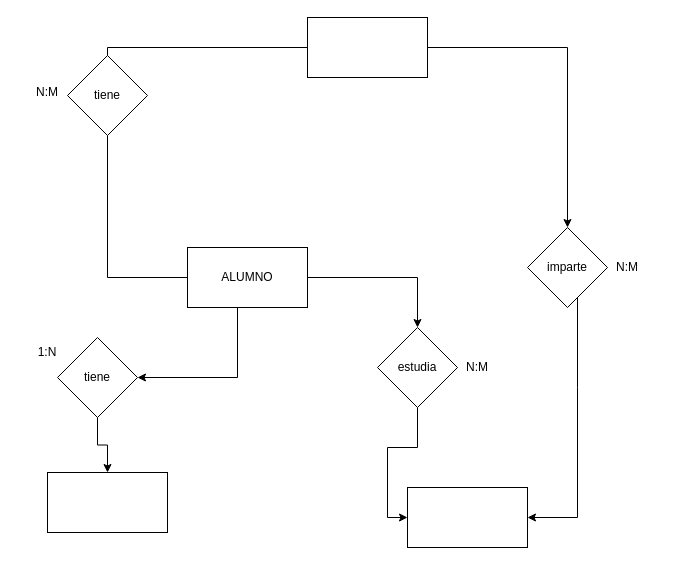
Some shapes in this 674 by 565 pixel diagram are drawn without their labels. The shapes that lost their labels are listed below. From the top down, each one's centre as x and y in pixels, then its label:
At [367,47]: "PROFESOR".
At [107,502]: "MATRICULA".
At [467,517]: "ASIGNATURA".
